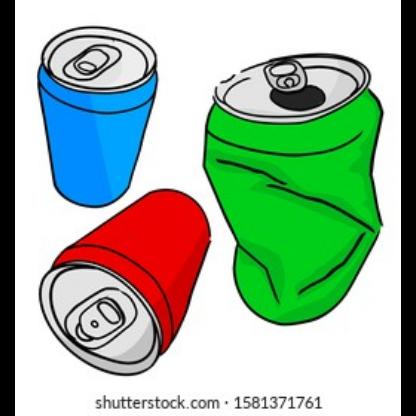Dent_Can: (221, 154, 369, 309)
Lid_Open: (254, 44, 330, 118)
Tin_Can: (202, 47, 392, 343), (27, 178, 212, 376), (34, 23, 160, 214)
